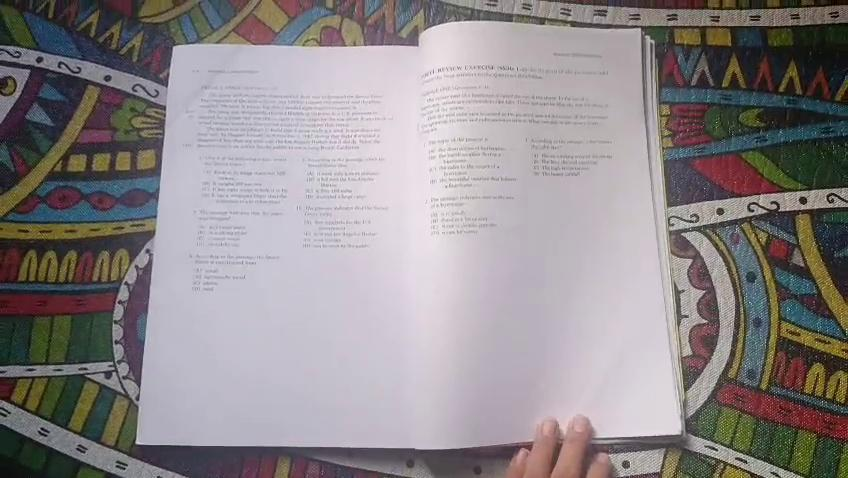Kertas: (142, 41, 428, 443), (418, 20, 675, 450)
